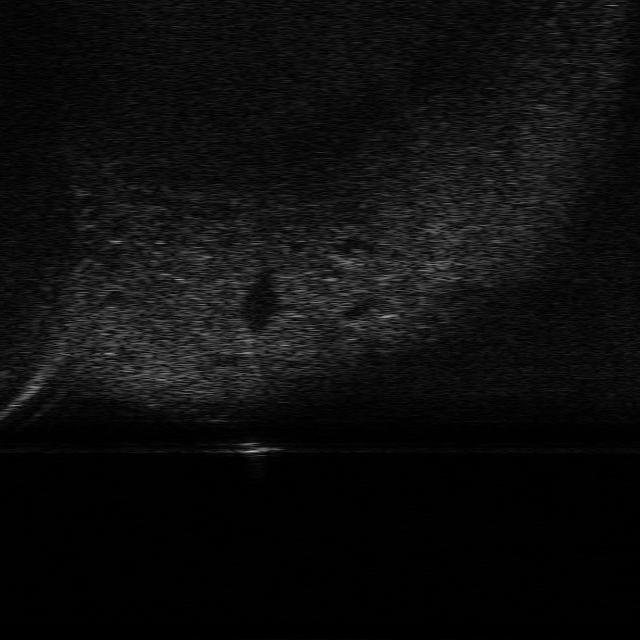cube: (231, 438, 275, 458)
